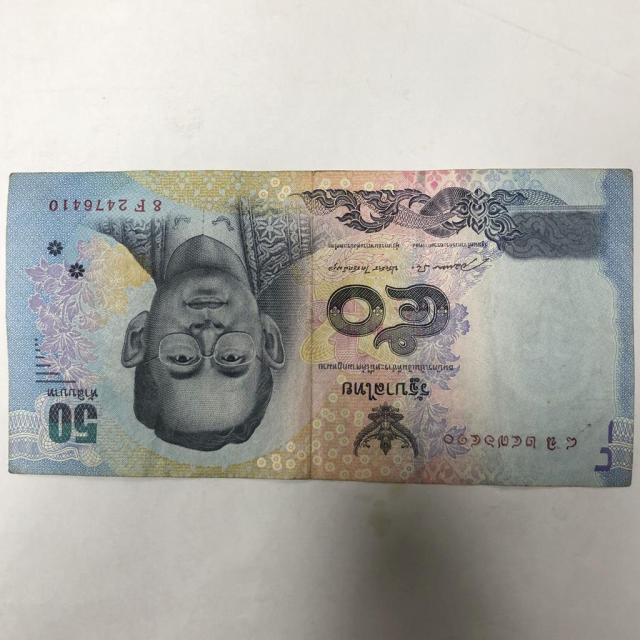THAI50: (2, 168, 639, 493)
